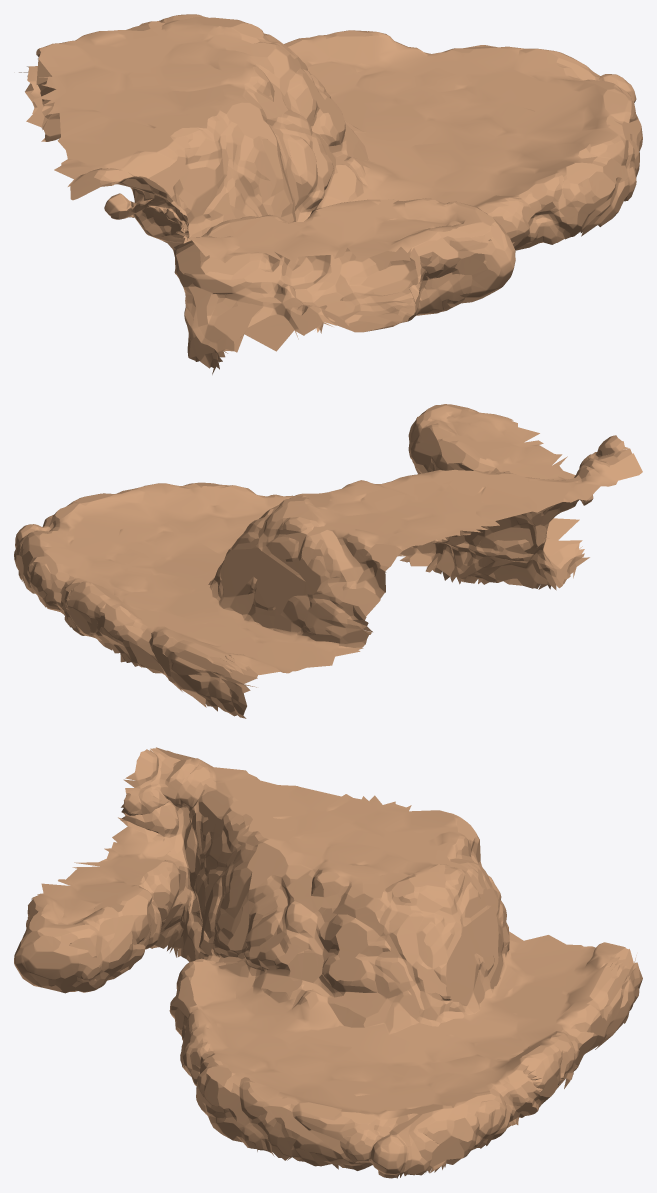
Rendered from SandstoneBig_Mesh_40LODs.fbx.
3 views of the same model, one above another, from view 1: azimuth 30°, elevation 25°; view 2: azimuth 150°, elevation 25°; view 3: azimuth 270°, elevation 25° (orthographic). The views are drawn at different scales.
Parts seen in each view (by area): view 1: Mesh_40_LOD0; view 2: Mesh_40_LOD0; view 3: Mesh_40_LOD0.
Boxes of the visible parts, x1,y1,x2,y2 form: Mesh_40_LOD0: [19, 14, 642, 374]; Mesh_40_LOD0: [14, 404, 642, 718]; Mesh_40_LOD0: [14, 747, 642, 1178].
Size of what is drawn, in the model's own units: 13166 by 3910 by 12432.
